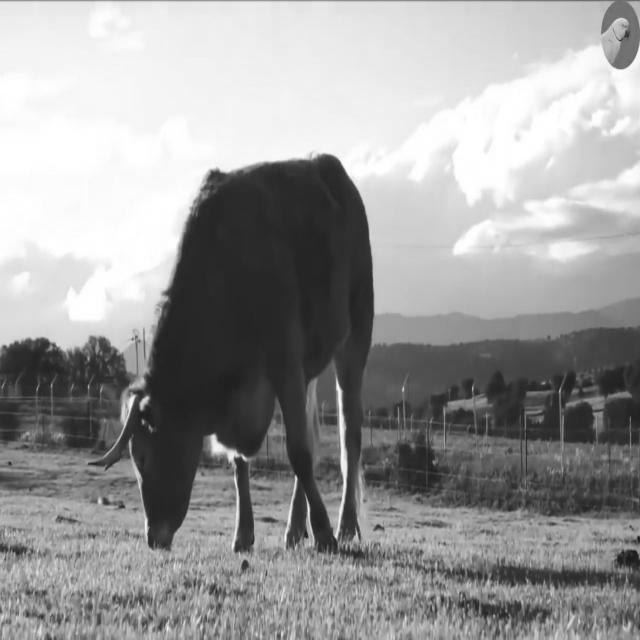cow: (94, 154, 374, 552)
